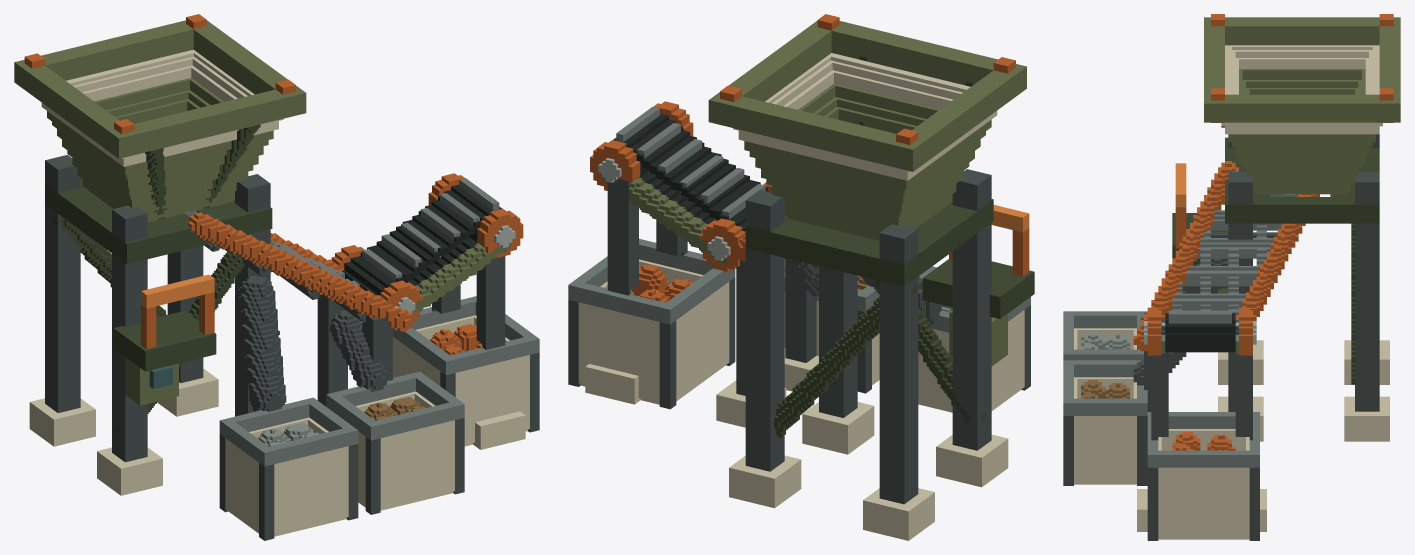
Rendered from ore_sorter.glb.
3 renders of one model, left to right at view 1: azimuth 30°, elevation 25°; view 2: azimuth 150°, elevation 25°; view 3: azimuth 270°, elevation 25°, orthographic. The views are drawn at different scales.
Parts seen in each view (by area): view 1: ore_sorter; view 2: ore_sorter; view 3: ore_sorter.
Part boxes in pixels (x1,y1,x2,y2): ore_sorter: [14, 14, 539, 540]; ore_sorter: [568, 14, 1034, 540]; ore_sorter: [1063, 14, 1400, 540].
Bounding box in the file's own units: 4.84 × 4.4 × 3.84.
